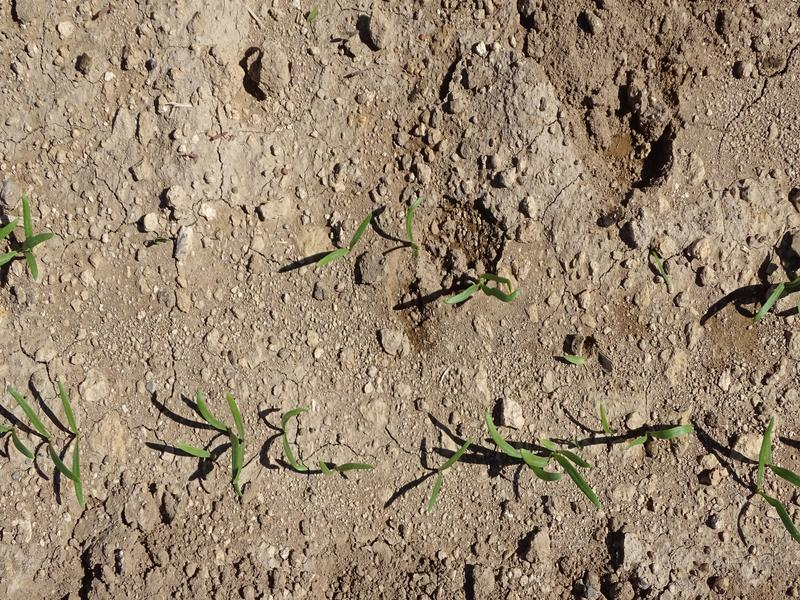Espinaca: (463, 407, 602, 497), (4, 380, 90, 489), (183, 387, 256, 482), (276, 406, 370, 475), (754, 425, 795, 534), (449, 259, 517, 316), (318, 209, 378, 270), (2, 209, 49, 282), (424, 441, 476, 502), (759, 269, 795, 326), (628, 416, 693, 447), (401, 197, 426, 239)
